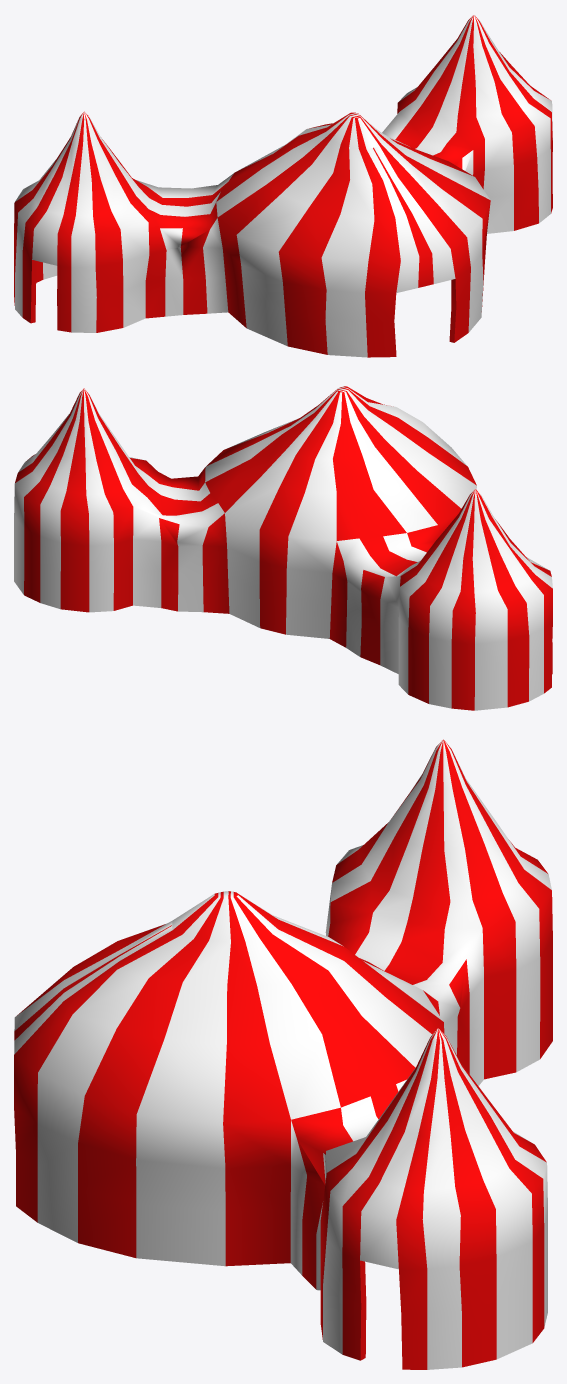
Rendered from Tritop_Low.fbx.
3 renders of one model, top to bottom at view 1: azimuth 30°, elevation 25°; view 2: azimuth 150°, elevation 25°; view 3: azimuth 270°, elevation 25°, orthographic. The views are drawn at different scales.
Parts seen in each view (by area): view 1: Tent_Low; view 2: Tent_Low; view 3: Tent_Low.
Boxes of the visible parts, bbox=[...] form: Tent_Low: bbox=[14, 15, 552, 357]; Tent_Low: bbox=[14, 386, 552, 710]; Tent_Low: bbox=[14, 739, 552, 1369].
Size of the model in its own units: 17060 by 6058 by 9892.
